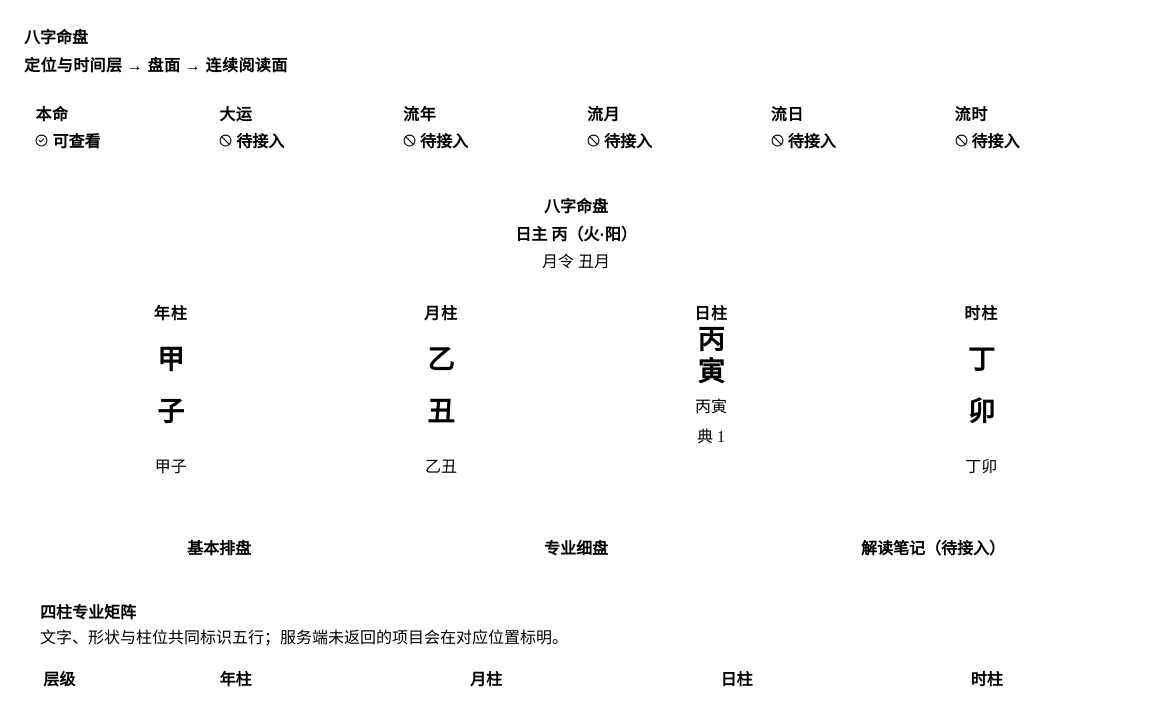
Test: BaziChart evidence-first slice › opens the evidence drawer from a marked pillar and focuses its citation
Click the button "日柱 丙 寅 丙寅 典 1" at (711,398), box [580,288,842,508]
(page scrolled)
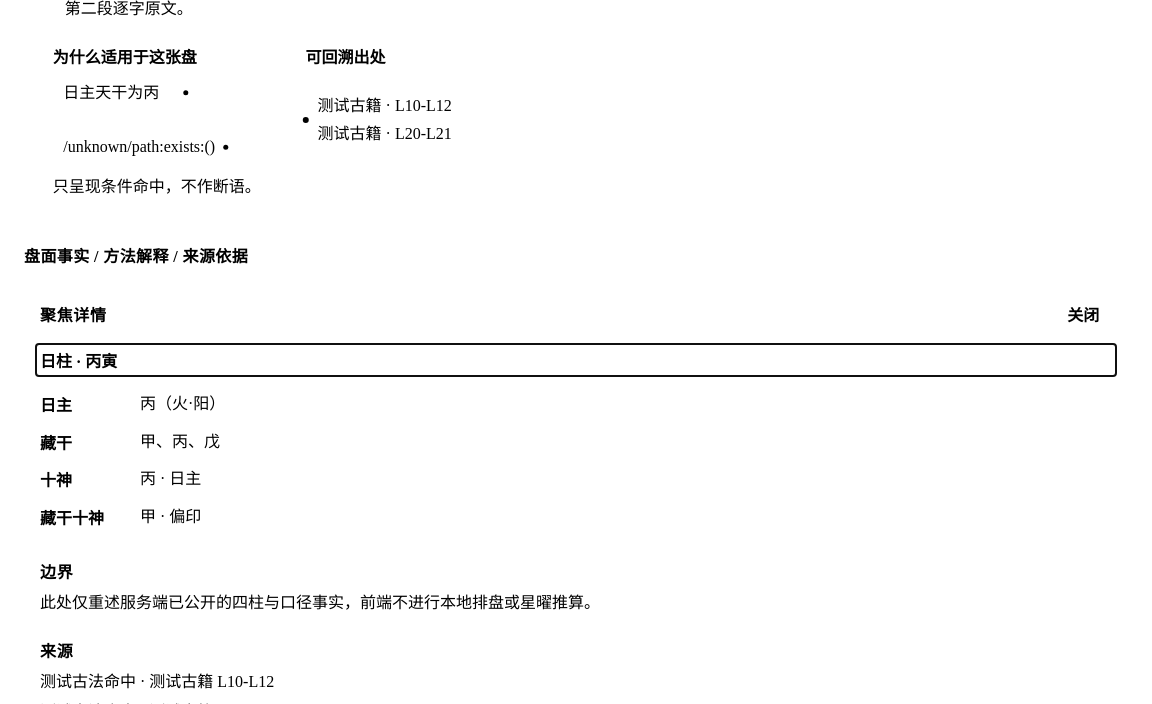
Expected: the text "藏干" is shown, [40,435,72,452]
Expected: the text "甲、丙、戊" is shown, [140,433,220,450]
Expected: the list item "测试古法命中 · 测试古籍 L10-L12" is shown, [40,673,274,690]
